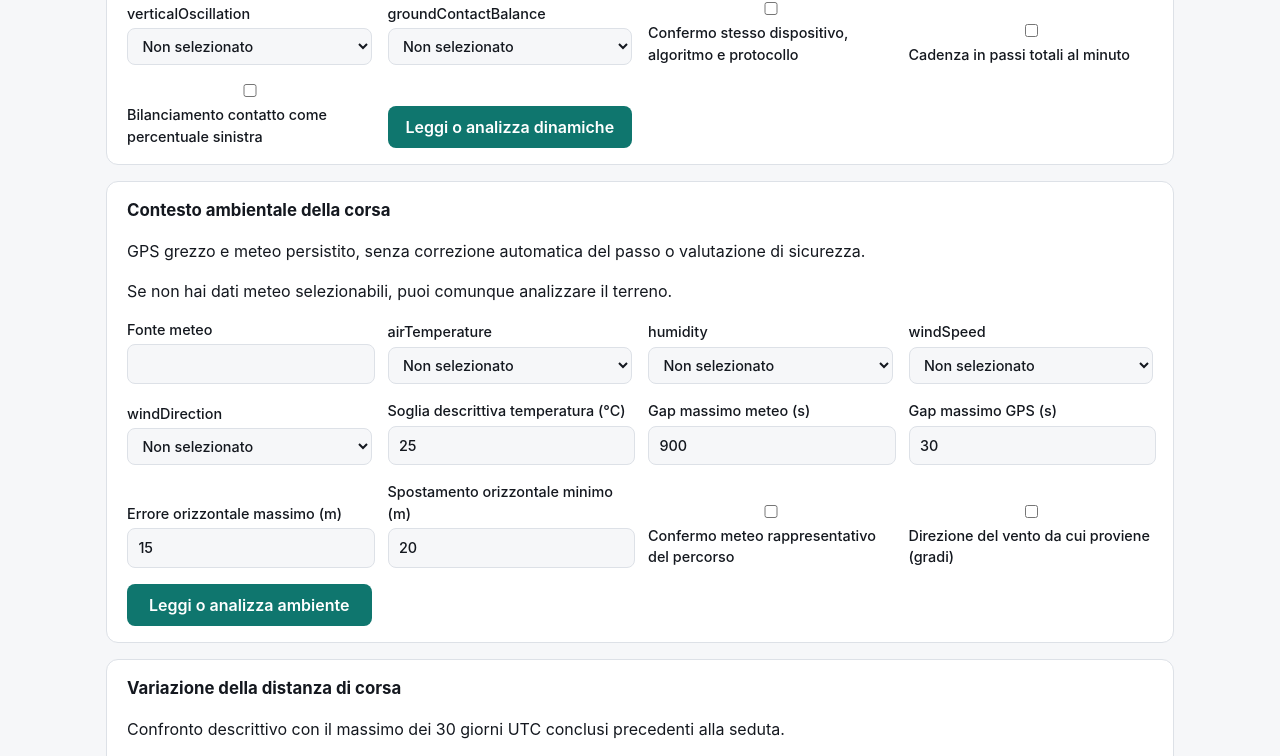
Scenario: contesto ambientale › richiede fonti esplicite e mostra solo supporto restituito
(page scrolled)
Step 1. Type "weather-test" into the field labelled "Fonte meteo" → point(251, 364), box [127,344,375,384]
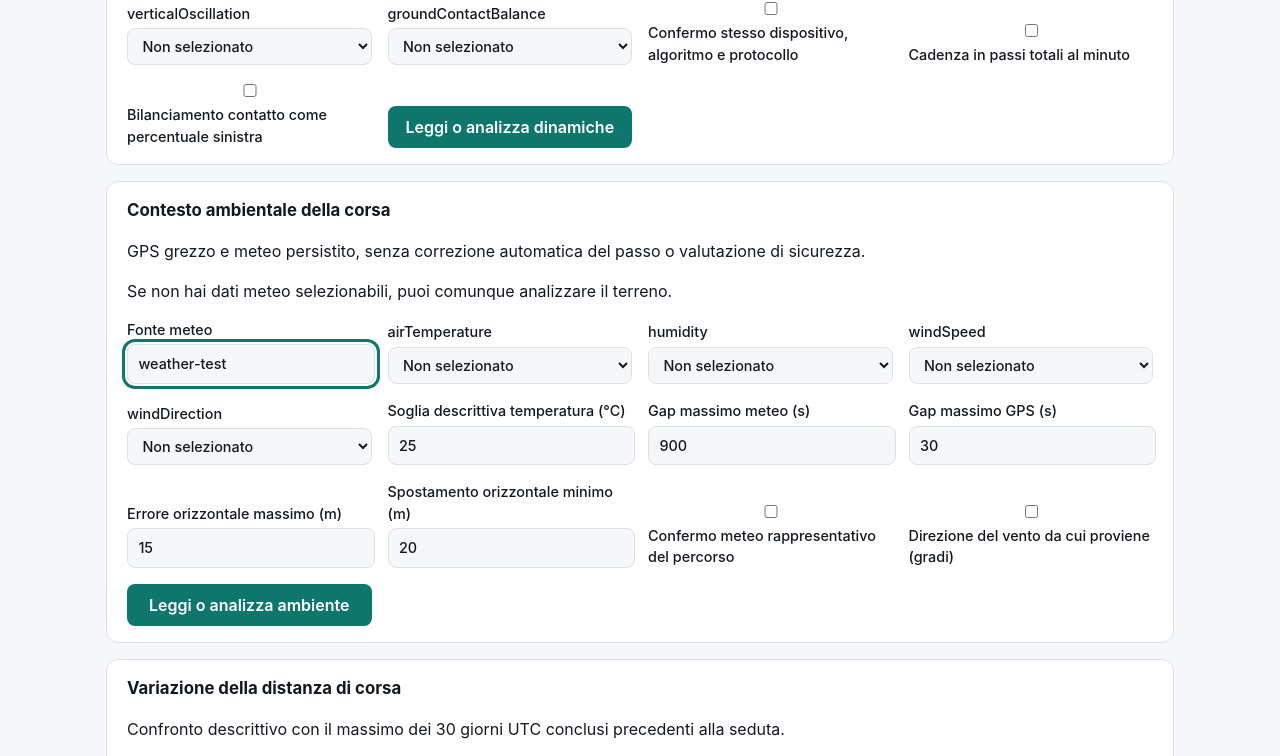
Step 2. Click the button "Leggi o analizza ambiente" → point(249, 605), box [127,584,372,626]
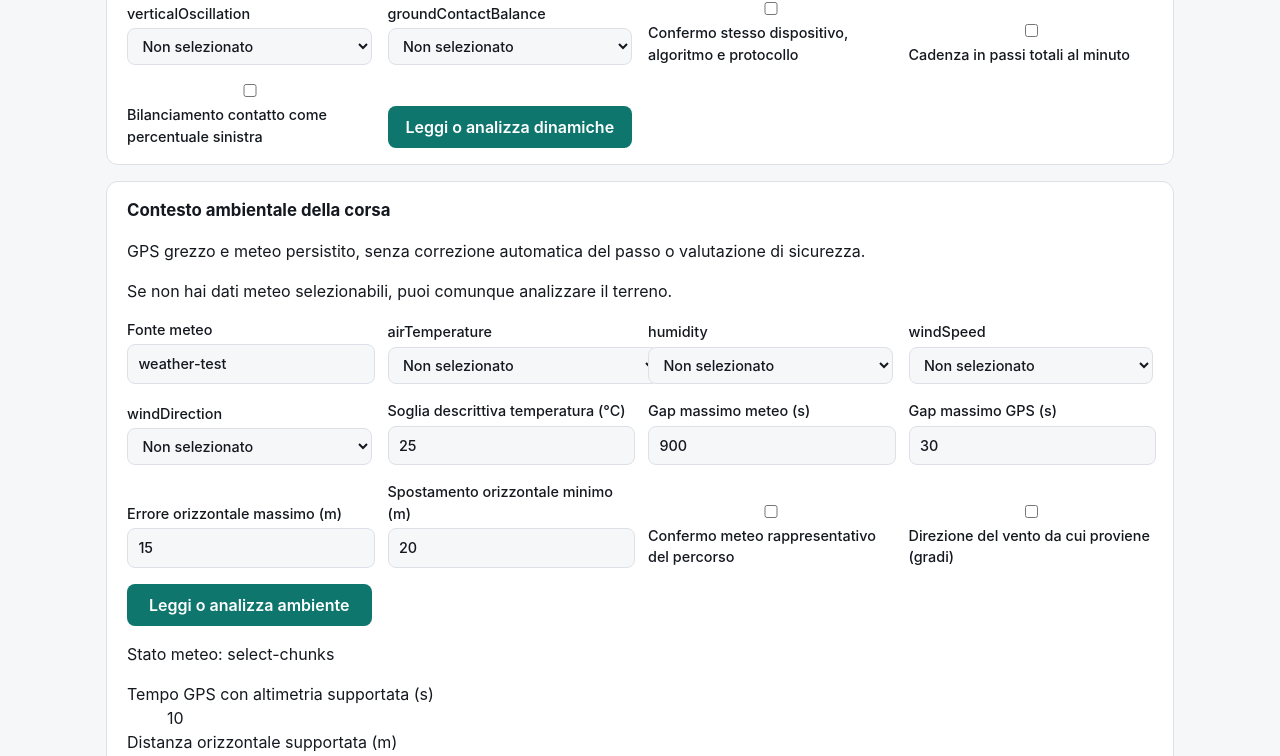
Expected: the text "Stato meteo: select-chunks" is shown, [127,644,334,664]
Step 3. Select "temp · r1 · 2026-11-25T12:00:00Z" in the dropdown labelled "airTemperature" → point(523, 366), box [388,347,659,384]
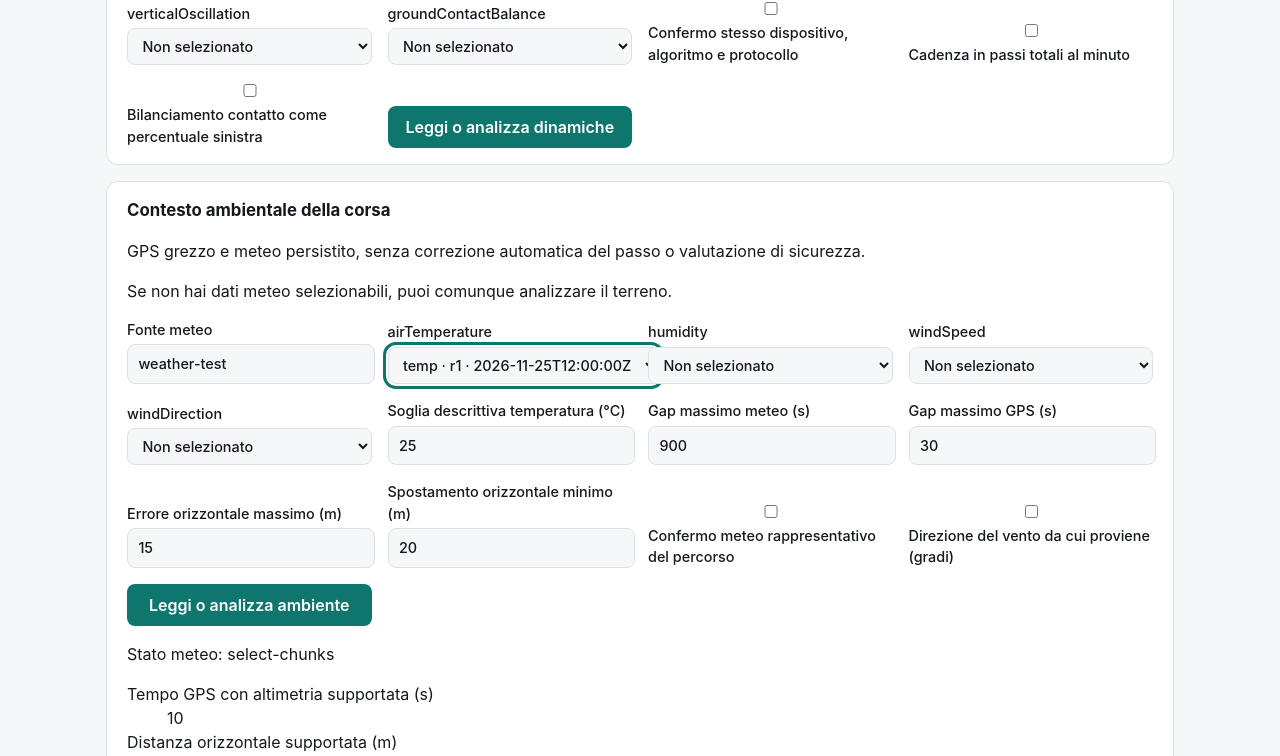
Step 4. Click the checkbox labelled "Confermo meteo rappresentativo del percorso" → point(771, 511), box [652,505,890,518]
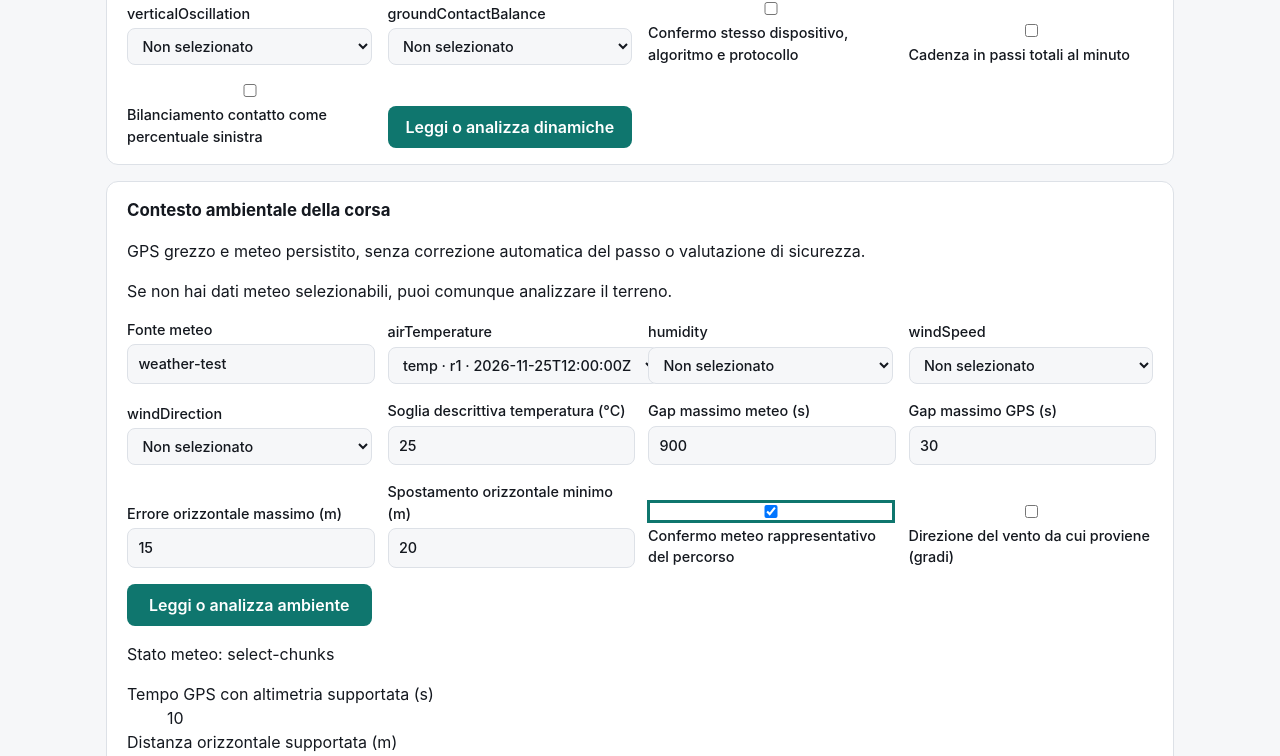
Step 5. Click the button "Leggi o analizza ambiente" → point(249, 605), box [127,584,372,626]
(page scrolled)
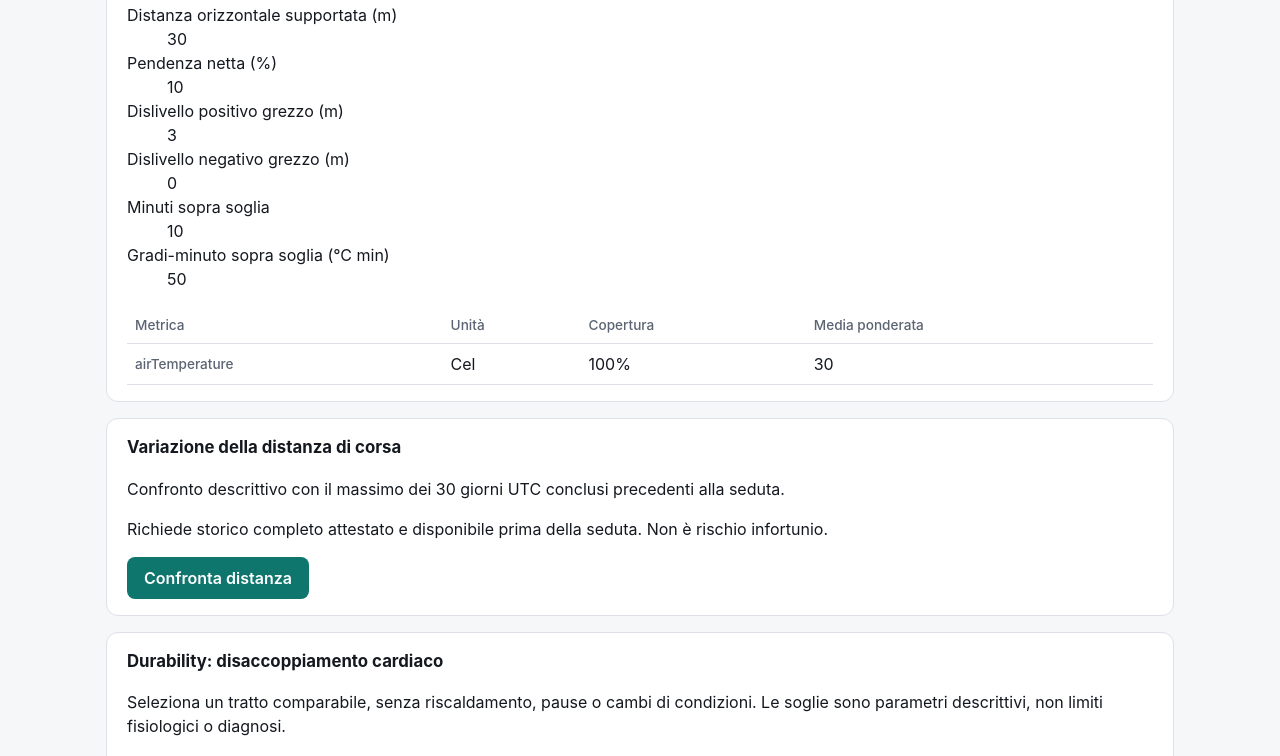
Expected: the text "100%" is shown, [580,344,806,385]
